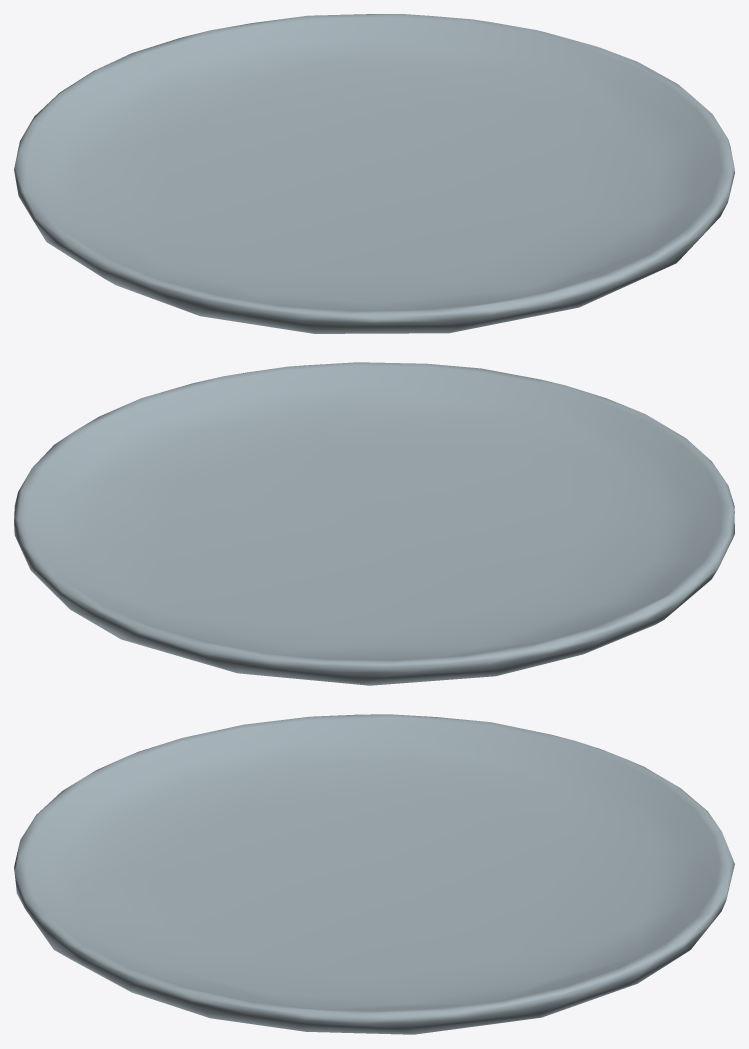
Rendered from SM_Plate.fbx.
3 renders of one model, top to bottom at view 1: azimuth 30°, elevation 25°; view 2: azimuth 150°, elevation 25°; view 3: azimuth 270°, elevation 25°, orthographic.
Parts seen in each view (by area): view 1: SM_Plate; view 2: SM_Plate; view 3: SM_Plate.
Boxes of the visible parts, x1,y1,x2,y2 form: SM_Plate: (14,14,734,333); SM_Plate: (14,362,734,685); SM_Plate: (14,714,734,1034).
Bounding box in the file's own units: 30.1 × 30.18 × 2.47.
